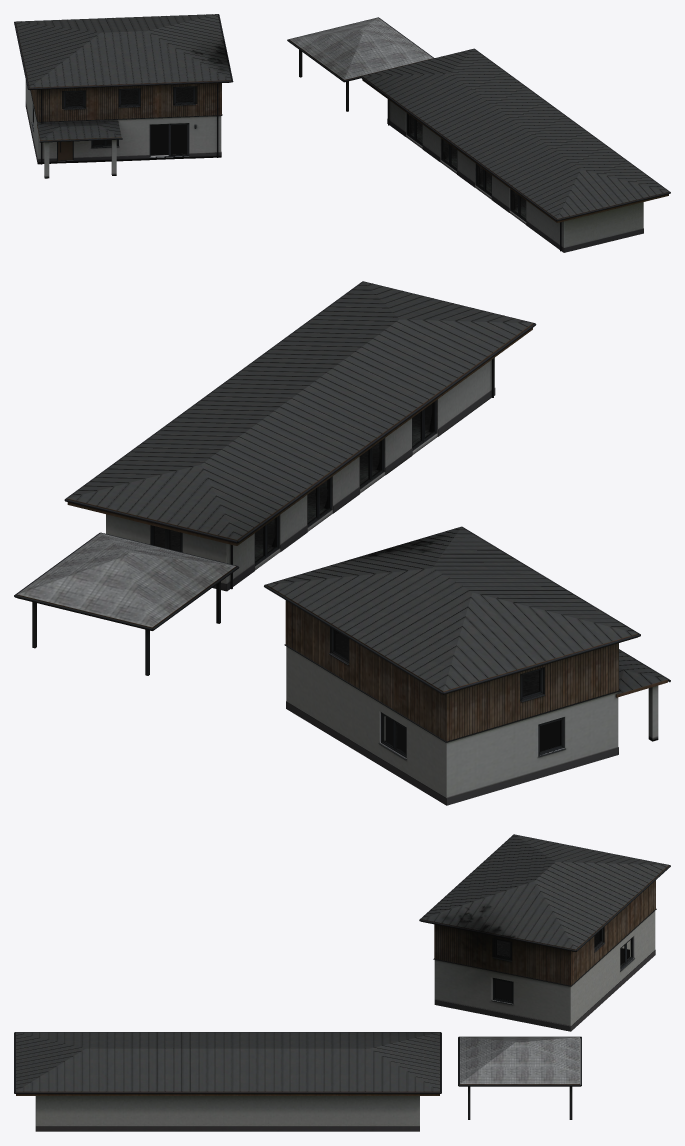
Rendered from haus.glb.
The picture shows the model from 3 angles, top to bottom: view 1: azimuth 30°, elevation 25°; view 2: azimuth 150°, elevation 25°; view 3: azimuth 270°, elevation 25°; orthographic projection. The views are drawn at different scales.
Parts seen in each view (by area): view 1: Licht_haus; view 2: Licht_haus; view 3: Licht_haus.
Part boxes in pixels (x1,y1,x2,y2): Licht_haus: (14,14,670,252); Licht_haus: (14,281,670,805); Licht_haus: (14,834,670,1131).
Size of the model in its own units: 31.38 by 7.19 by 39.36.
1 material, 1 textured.
